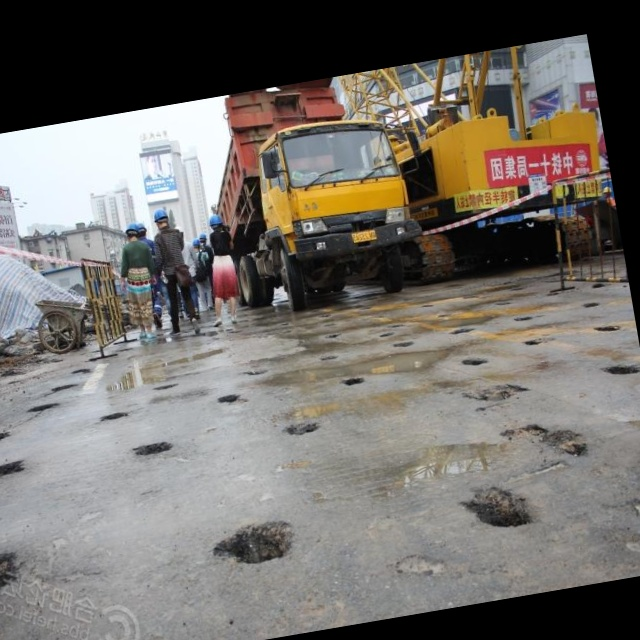Con_Casco: (152, 208, 169, 228), (207, 213, 223, 231)
Sin_Chaleco: (152, 226, 187, 275), (122, 239, 153, 283)
